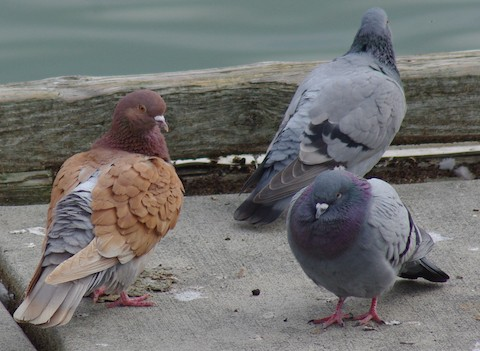pigeon: (9, 87, 187, 333), (229, 4, 410, 232), (284, 164, 451, 334)
